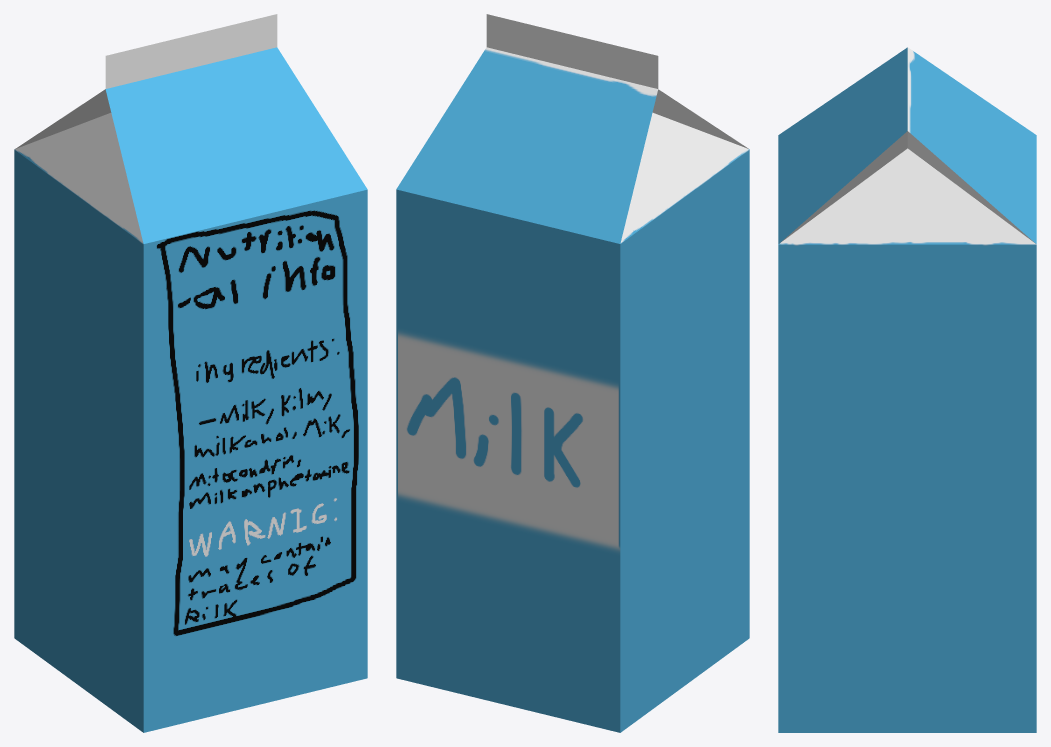
File: milkcarton.glb
The picture shows the model from 3 angles, left to right: view 1: azimuth 30°, elevation 25°; view 2: azimuth 150°, elevation 25°; view 3: azimuth 270°, elevation 25°; orthographic projection.
Parts seen in each view (by area): view 1: Cube; view 2: Cube; view 3: Cube.
Part boxes in pixels (x1,y1,x2,y2): Cube: (14,14,367,732); Cube: (396,14,749,732); Cube: (778,47,1036,732).
Bounding box in the file's own units: 2 × 5.31 × 2.
Materials: 1 (1 with a texture image).
